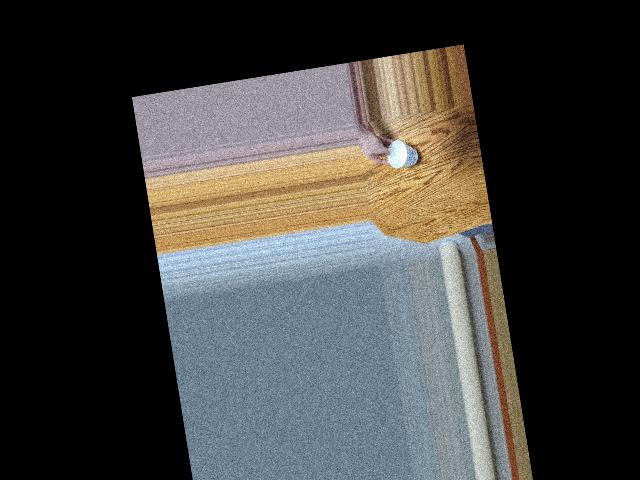cotage: (385, 143, 418, 169)
